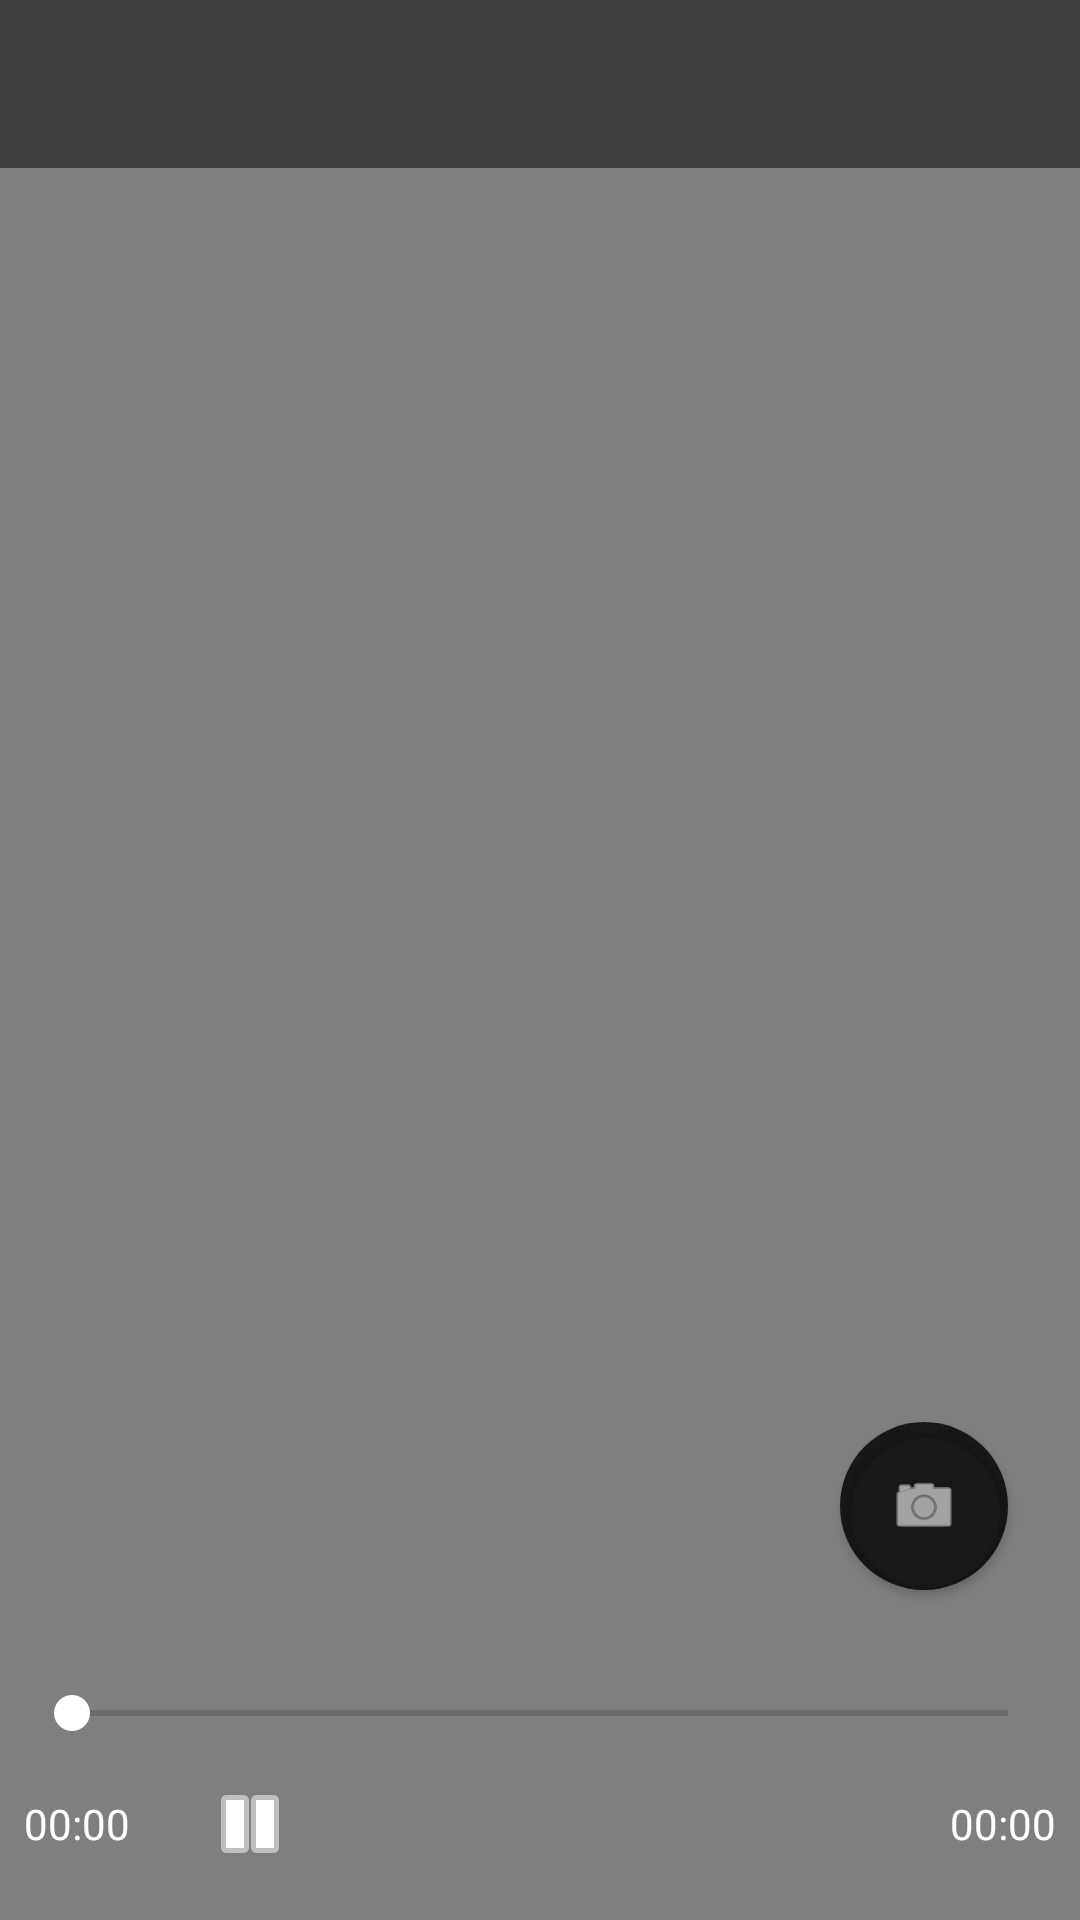

Locate icon controls on the screen. Image size 1080×1920, boxes as (x1, y1, x2, y2).
Play/Pause: (221, 1795, 279, 1853)
Take Screenshot: (840, 1422, 1008, 1590)
